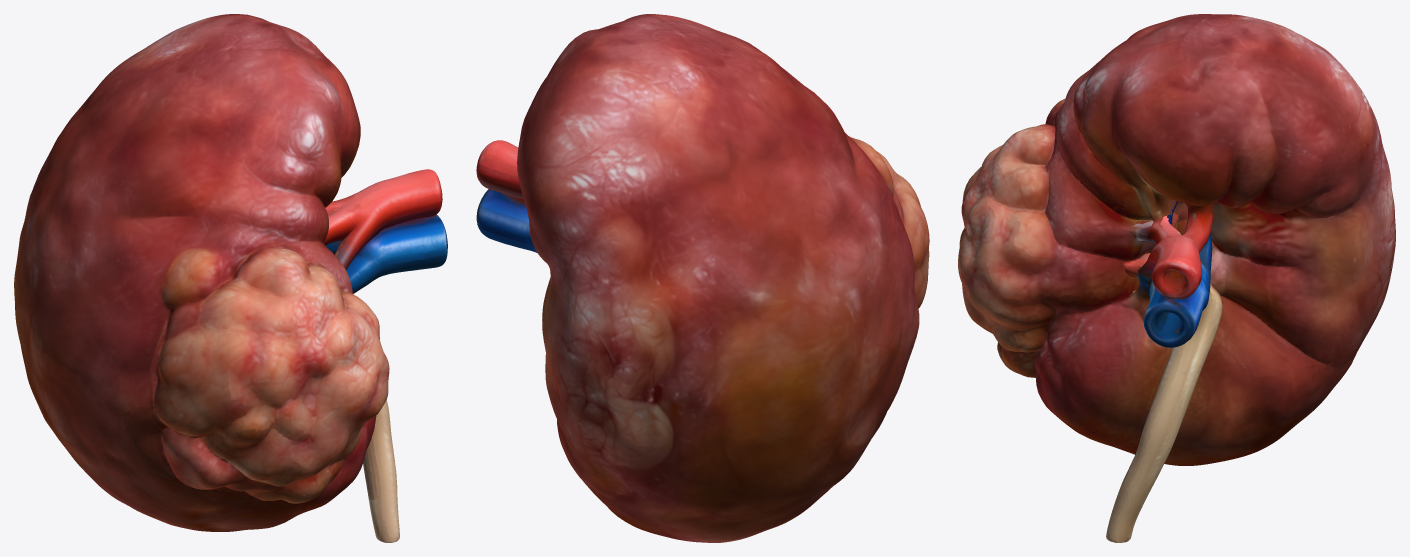
The model's file is kidney.glb.
3 views of the same model, side by side, from view 1: azimuth 30°, elevation 25°; view 2: azimuth 150°, elevation 25°; view 3: azimuth 270°, elevation 25° (orthographic). The views are drawn at different scales.
Parts seen in each view (by area): view 1: geometry_0; view 2: geometry_0; view 3: geometry_0.
Boxes of the visible parts, x1,y1,x2,y2 form: geometry_0: [14, 14, 447, 542]; geometry_0: [476, 14, 929, 542]; geometry_0: [958, 14, 1395, 542].
Bounding box in the file's own units: 0.8254 × 1 × 0.8526.
Materials: 1 (1 with a texture image).
